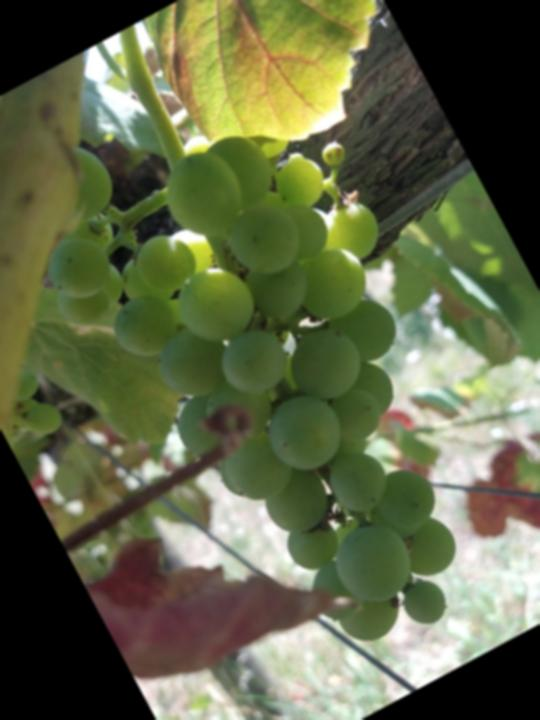grape: (0, 36, 540, 713)
